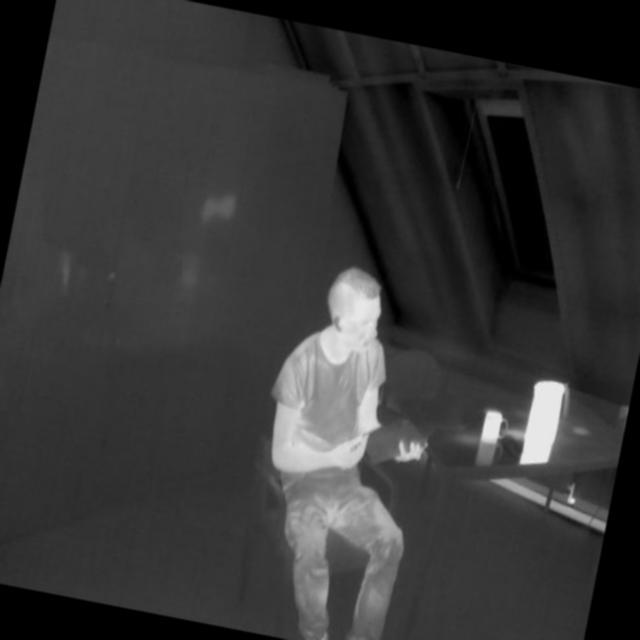person: (225, 247, 464, 640)
